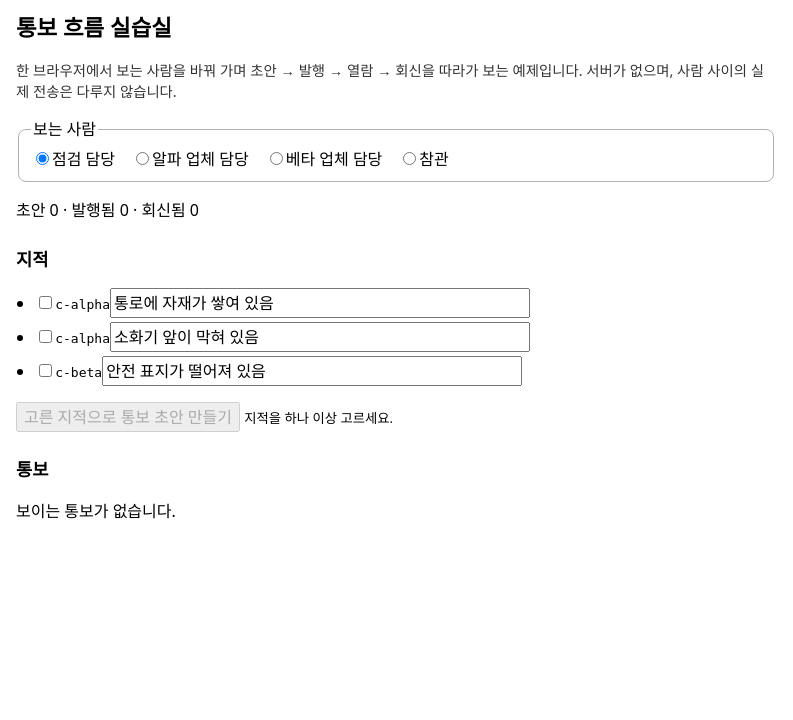
Test: the screen › hides another company's notice and keeps the issued text after the finding is edited
Step 1. Click the checkbox named "f-1 고르기" → point(46, 303), box x1=39 y1=296 x2=52 y2=309
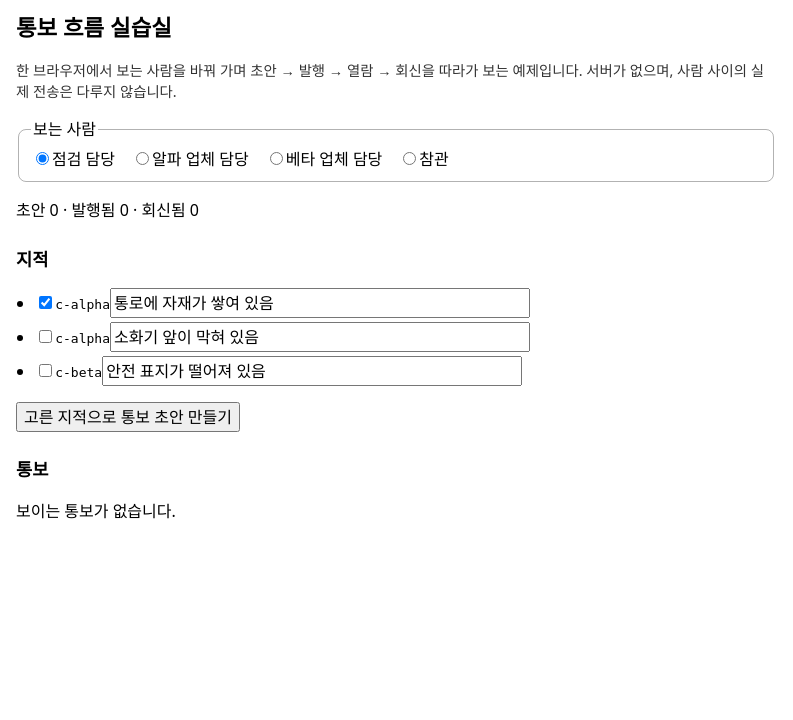
Step 2. Click the button "고른 지적으로 통보 초안 만들기" → point(128, 417), box x1=16 y1=402 x2=240 y2=432
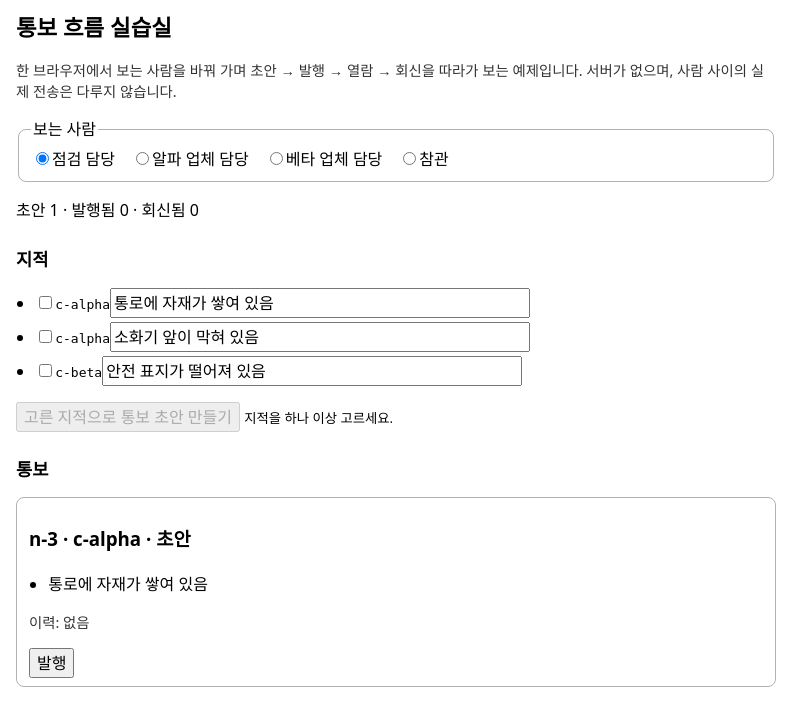
Step 3. Click the button "발행" → point(52, 663), box x1=29 y1=648 x2=74 y2=678
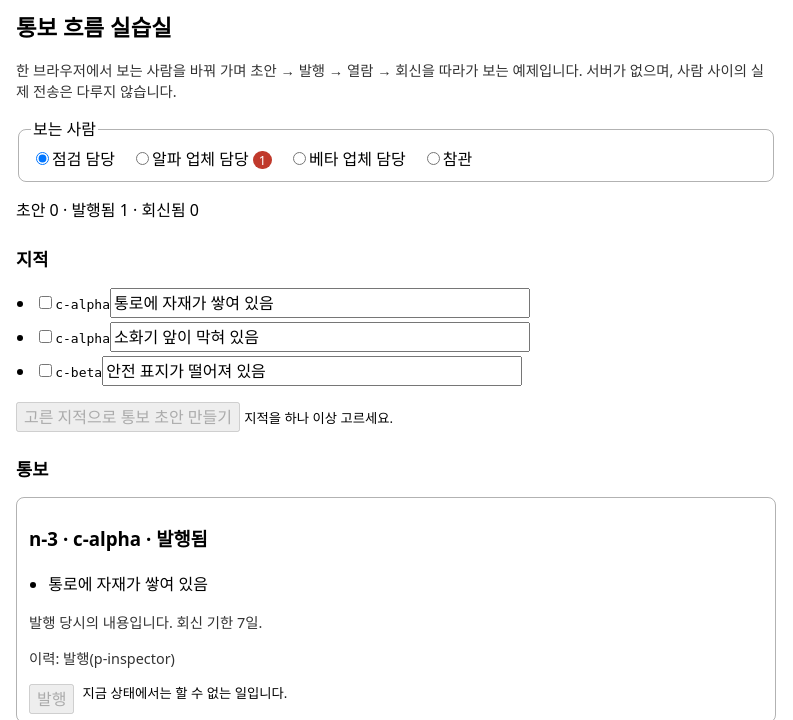
Step 4. Replace the text in the field named "f-1 내용" with "통로를 비웠음" → point(320, 303), box x1=110 y1=288 x2=530 y2=318
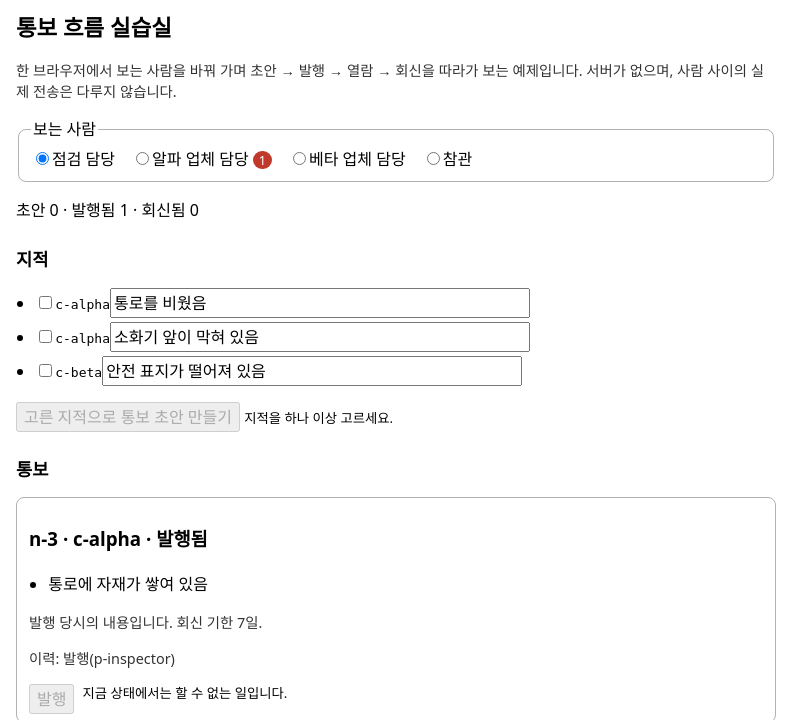
Step 5. Leave the field named "f-1 내용", box x1=110 y1=288 x2=530 y2=318
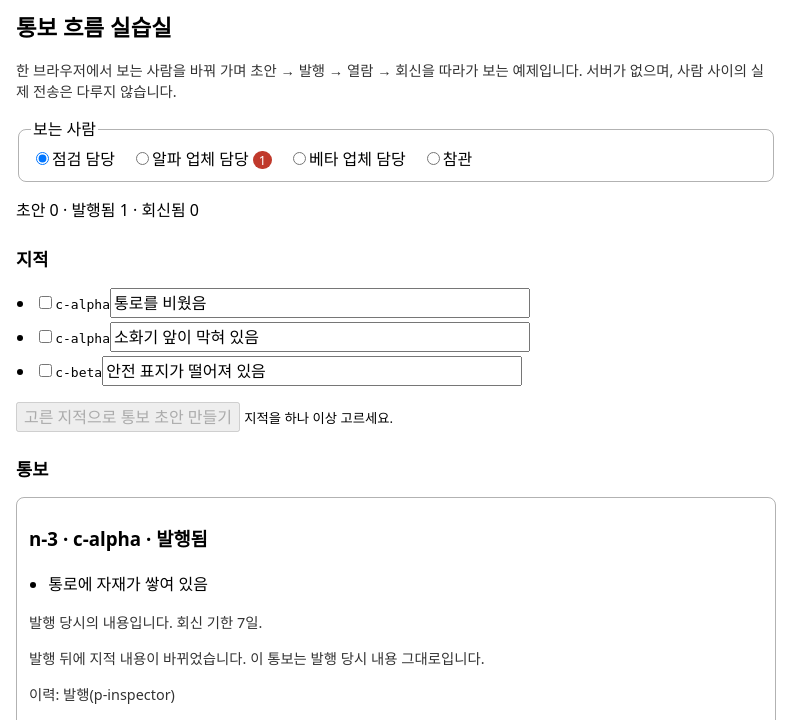
Result: the element with test id "notice-n-3" shows "통로에 자재가 쌓여 있음" at x1=48 y1=573 x2=208 y2=595
Result: the element with test id "notice-n-3" shows "발행 뒤에 지적 내용이 바뀌었습니다." at x1=29 y1=649 x2=485 y2=668
Step 6. Click the radio button labelled "베타 업체 담당" → point(300, 158), box x1=293 y1=152 x2=306 y2=165
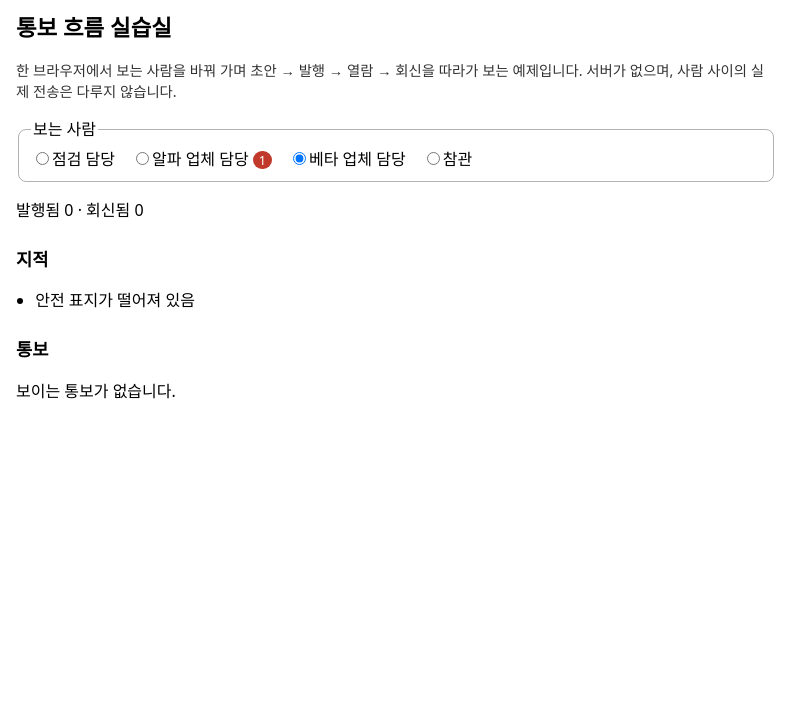
Result: the text "보이는 통보가 없습니다." is shown at x1=16 y1=380 x2=176 y2=402
